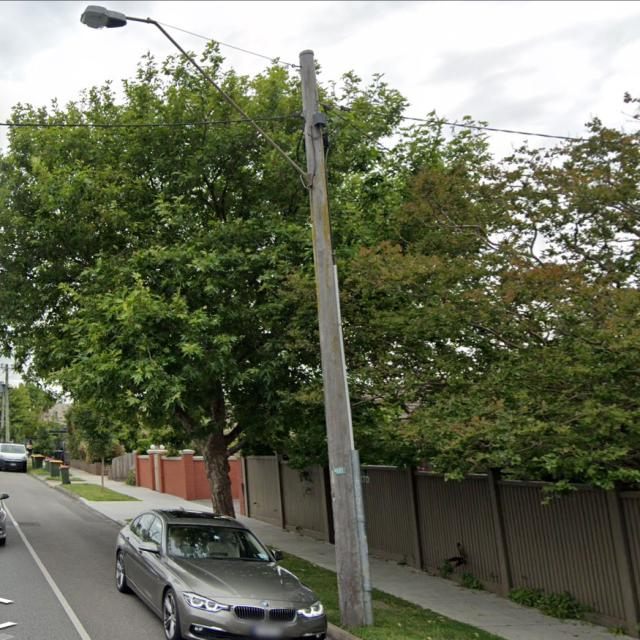streetlight: (77, 4, 316, 190)
timber-pole: (298, 48, 376, 630)
